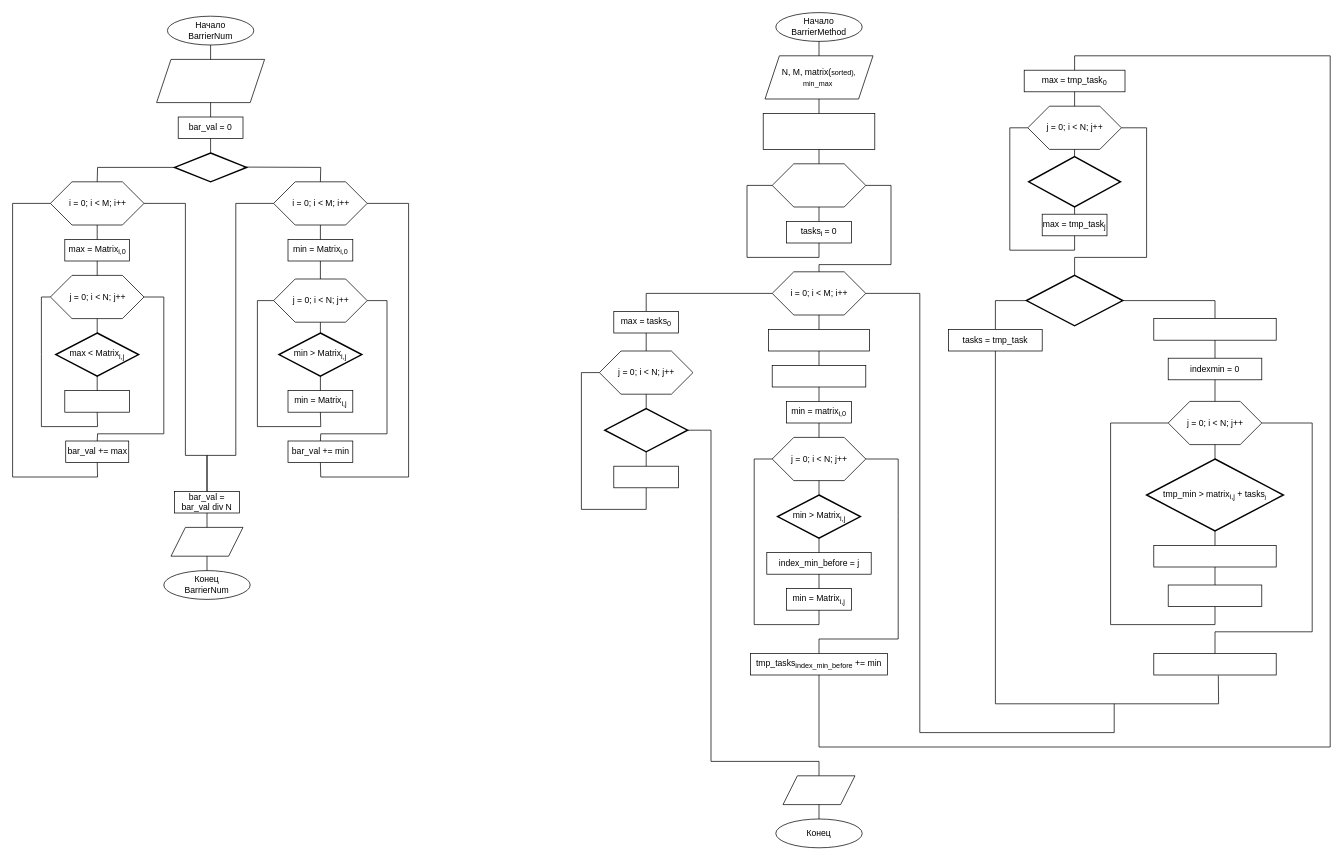
Some shapes in this 1344 by 860 pixel diagram are drawn without their labels. Here are the shapes that lost their labels. From the top down, the centre of each, then its label:
At (210,81): "N, M, Matrix, min_max".
At (818,131): "barier_num = BarrierNum(N,M,matrix, min_max)".
At (210,167): "max_min = 0".
At (818,185): "i = 0; i < N; i++".
At (1074,181): "max < tmp_task j".
At (1074,300): "max <= barier_num".
At (818,340): "tmp_tasks = tasks".
At (1214,329): "tmp_min = matrix i,0 + tasks 0".
At (818,376): "index_min_before = 0".
At (97,401): "max = Matrix i,j".
At (646,430): "max < tasks j".
At (646,476): "max = tasks j".
At (206,541): "bar_val".
At (1214,556): "tmp_min = matrix i,j + tasks j".
At (1214,595): "indexmin = j".
At (1214,664): "tasks indexmin += matrix i,indexmin".
At (818,790): "max".
